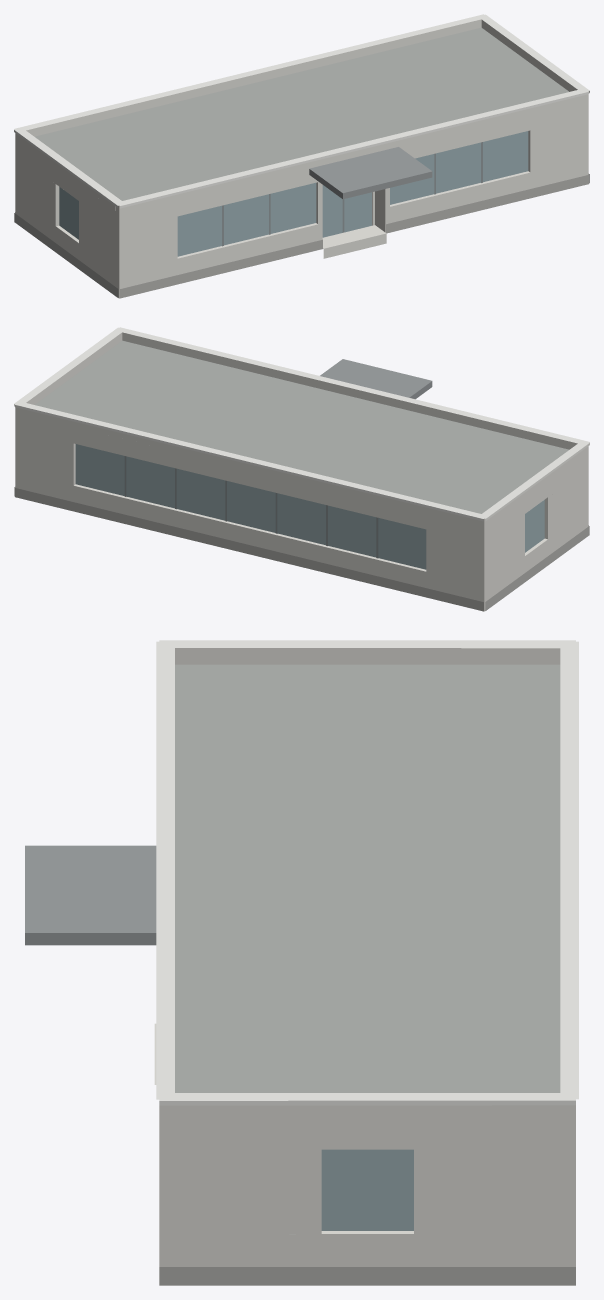
The picture shows the model from 3 angles, top to bottom: view 1: azimuth 30°, elevation 25°; view 2: azimuth 150°, elevation 25°; view 3: azimuth 270°, elevation 25°; orthographic projection. The views are drawn at different scales.
Visible parts, largest first — view 1: b1299259735__roof, b1299259735__wall, b1299259735__glass, b1299259735__parapet, b1299259735__trim, b1299259735__base, b1299259735__canopy, b1299259735__entranceThreshold_0, b1299259735__frame; view 2: b1299259735__roof, b1299259735__wall, b1299259735__glass, b1299259735__parapet, b1299259735__trim, b1299259735__base, b1299259735__canopy, b1299259735__frame; view 3: b1299259735__roof, b1299259735__wall, b1299259735__trim, b1299259735__canopy, b1299259735__parapet, b1299259735__base, b1299259735__glass.
Part boxes in pixels (x1,y1,x2,y2): b1299259735__roof: [35, 27, 568, 298]; b1299259735__wall: [15, 99, 588, 297]; b1299259735__glass: [59, 131, 528, 256]; b1299259735__parapet: [15, 19, 588, 213]; b1299259735__trim: [14, 14, 589, 208]; b1299259735__base: [14, 174, 589, 298]; b1299259735__canopy: [309, 147, 432, 199]; b1299259735__entranceThreshold_0: [322, 225, 386, 258]; b1299259735__frame: [222, 142, 482, 246]; b1299259735__roof: [35, 340, 568, 611]; b1299259735__wall: [15, 412, 588, 610]; b1299259735__glass: [75, 444, 544, 569]; b1299259735__parapet: [15, 332, 588, 526]; b1299259735__trim: [14, 327, 589, 521]; b1299259735__base: [14, 487, 589, 611]; b1299259735__canopy: [320, 359, 432, 399]; b1299259735__frame: [124, 456, 378, 558]; b1299259735__roof: [175, 664, 560, 1234]; b1299259735__wall: [159, 1116, 575, 1266]; b1299259735__trim: [156, 640, 578, 1105]; b1299259735__canopy: [25, 845, 156, 945]; b1299259735__parapet: [159, 648, 575, 1115]; b1299259735__base: [159, 1267, 575, 1285]; b1299259735__glass: [321, 1149, 413, 1230].
Bounding box in the file's own units: 21.06 × 4.35 × 10.71.
